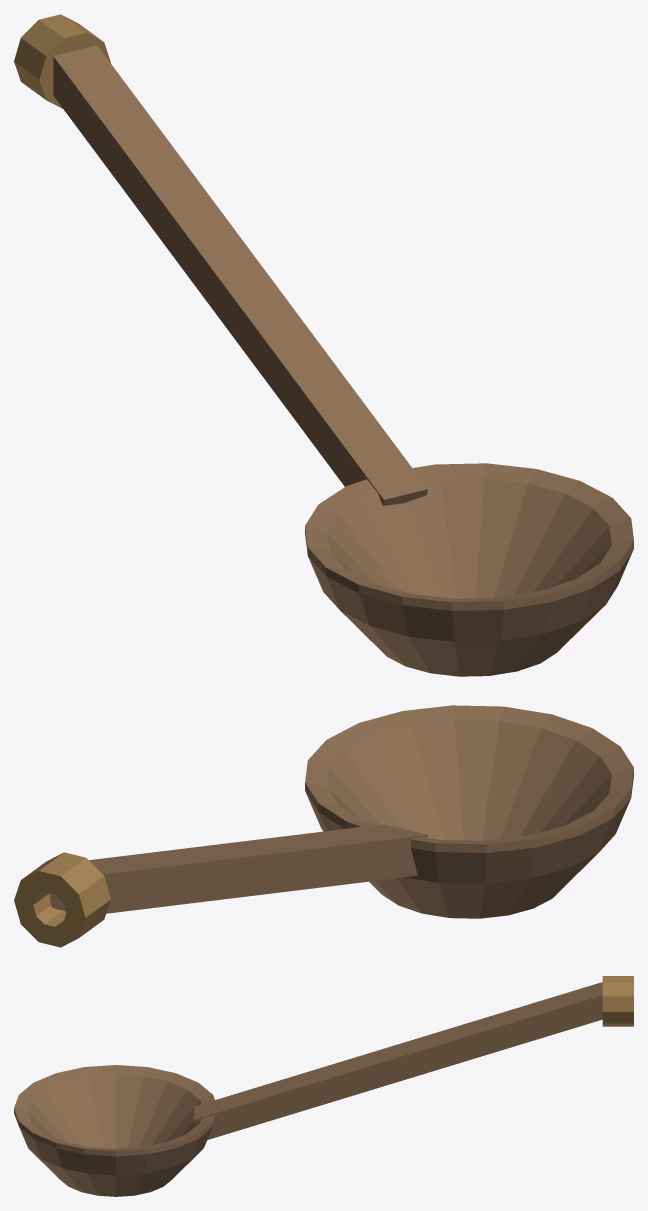
File: G-02_ladle.glb
The picture shows the model from 3 angles, top to bottom: view 1: azimuth 30°, elevation 25°; view 2: azimuth 150°, elevation 25°; view 3: azimuth 270°, elevation 25°; orthographic projection. The views are drawn at different scales.
Parts seen in each view (by area): view 1: G-02_ladle; view 2: G-02_ladle; view 3: G-02_ladle.
Part boxes in pixels (left/top/right/bottom): G-02_ladle: left=14, top=14, right=633, bottom=676; G-02_ladle: left=14, top=705, right=633, bottom=947; G-02_ladle: left=14, top=976, right=633, bottom=1196.
Size of the model in its own units: 0.104 by 0.1174 by 0.316.
